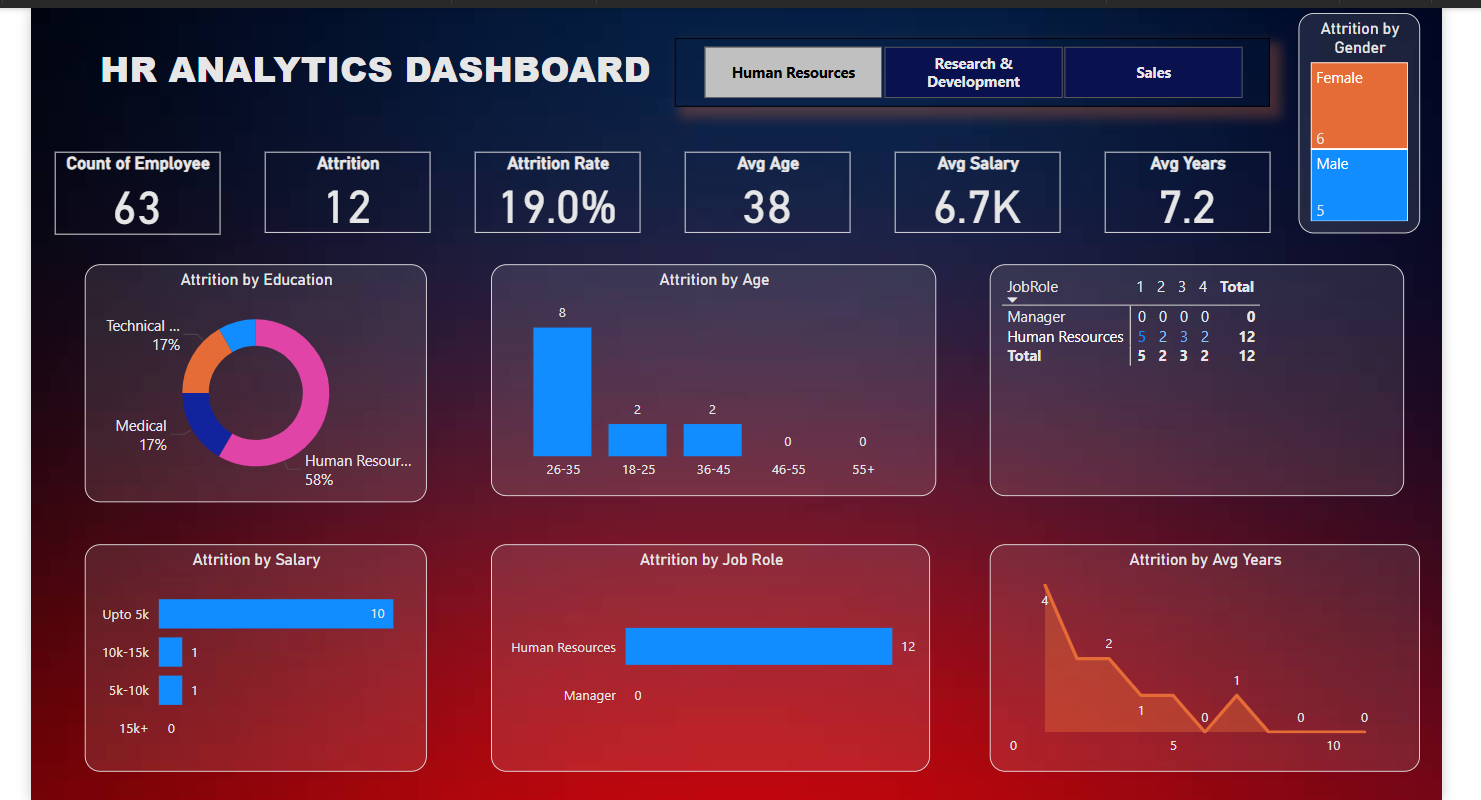

The page's visual inventory and layout, read from the dashboard file:
{"tool":"powerbi","page":{"name":"Page 1","canvas":[1280,720],"ordinal":0},"visuals":[{"type":"card","title":"Count of Employee","fields":{"Values":["CountNonNull(HR_Analytics.EmpID)"]},"box":[21.2,130,150,75],"z":0},{"type":"card","title":"Attrition","fields":{"Values":["Sum(HR_Analytics.AttritionCount)"]},"box":[211.8,130,150,73.8],"z":1000},{"type":"card","title":"Attrition Rate","fields":{"Values":["HR_Analytics.Attrition Rate"]},"box":[402.2,130,150,73.8],"z":2000},{"type":"card","title":"Avg Age","fields":{"Values":["Avg(HR_Analytics.Age)"]},"box":[592.8,130,150,73.8],"z":3000},{"type":"card","title":"Avg Salary","fields":{"Values":["Avg(HR_Analytics.MonthlyIncome)"]},"box":[783.2,130,150,73.8],"z":4000},{"type":"card","title":"Avg Years","fields":{"Values":["Avg(HR_Analytics.YearsAtCompany)"]},"box":[973.8,130,150,73.8],"z":5000},{"type":"donutChart","title":"Attrition by Education","fields":{"Category":["HR_Analytics.EducationField"],"Y":["Sum(HR_Analytics.AttritionCount)"]},"box":[48.8,232.5,310,216.2],"z":6000},{"type":"columnChart","title":"Attrition by Age","fields":{"Category":["HR_Analytics.AgeGroup"],"Y":["Sum(HR_Analytics.AttritionCount)"]},"box":[417.5,232.5,403.8,210],"z":7000},{"type":"pivotTable","title":"Job Satisfaction Rating","fields":{"Rows":["HR_Analytics.JobRole"],"Columns":["HR_Analytics.JobSatisfaction"],"Values":["Sum(HR_Analytics.AttritionCount)"]},"box":[870,232.5,376.2,210],"z":8000},{"type":"barChart","title":"Attrition by Salary","fields":{"Category":["HR_Analytics.SalarySlab"],"Y":["Sum(HR_Analytics.AttritionCount)"]},"box":[48.8,486.2,310,206.2],"z":9000},{"type":"barChart","title":"Attrition by Job Role","fields":{"Y":["Sum(HR_Analytics.AttritionCount)"],"Category":["HR_Analytics.JobRole"]},"box":[417.5,486.2,398.8,206.2],"z":10000},{"type":"areaChart","title":"Attrition by Avg Years","fields":{"Category":["HR_Analytics.YearsAtCompany"],"Y":["Sum(HR_Analytics.AttritionCount)"]},"box":[870,486.2,390,206.2],"z":11000},{"type":"treemap","title":"Attrition by Gender","fields":{"Group":["HR_Analytics.Gender"],"Values":["Sum(HR_Analytics.AttritionCount)"]},"box":[1150,5,110,200],"z":12000},{"type":"slicer","fields":{"Values":["HR_Analytics.Department"]},"box":[583.8,27.5,540,62.5],"z":13000},{"type":"textbox","box":[21.2,27.5,592.5,62.5],"z":14000}]}

Visuals, with their boxes on the page's 1280x720 design canvas (x1, y1, x2, y2). These are canvas units, not pixel positions in the 1481x800 screenshot, which may show the page scaled, cropped or inside an application window:
"Count of Employee" card: box(21, 130, 171, 205)
"Attrition" card: box(212, 130, 362, 204)
"Attrition Rate" card: box(402, 130, 552, 204)
"Avg Age" card: box(593, 130, 743, 204)
"Avg Salary" card: box(783, 130, 933, 204)
"Avg Years" card: box(974, 130, 1124, 204)
"Attrition by Education" donutChart: box(49, 232, 359, 449)
"Attrition by Age" columnChart: box(418, 232, 821, 442)
"Job Satisfaction Rating" pivotTable: box(870, 232, 1246, 442)
"Attrition by Salary" barChart: box(49, 486, 359, 692)
"Attrition by Job Role" barChart: box(418, 486, 816, 692)
"Attrition by Avg Years" areaChart: box(870, 486, 1260, 692)
"Attrition by Gender" treemap: box(1150, 5, 1260, 205)
slicer - HR_Analytics.Department: box(584, 28, 1124, 90)
textbox: box(21, 28, 614, 90)
